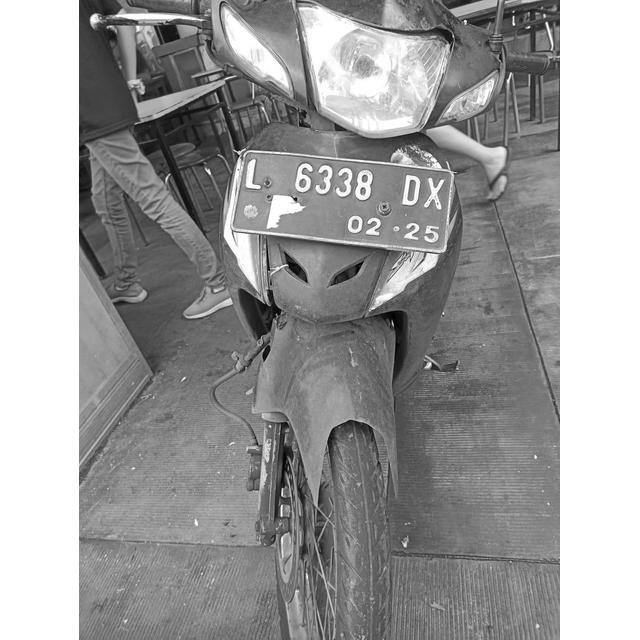license: (243, 156, 447, 246)
